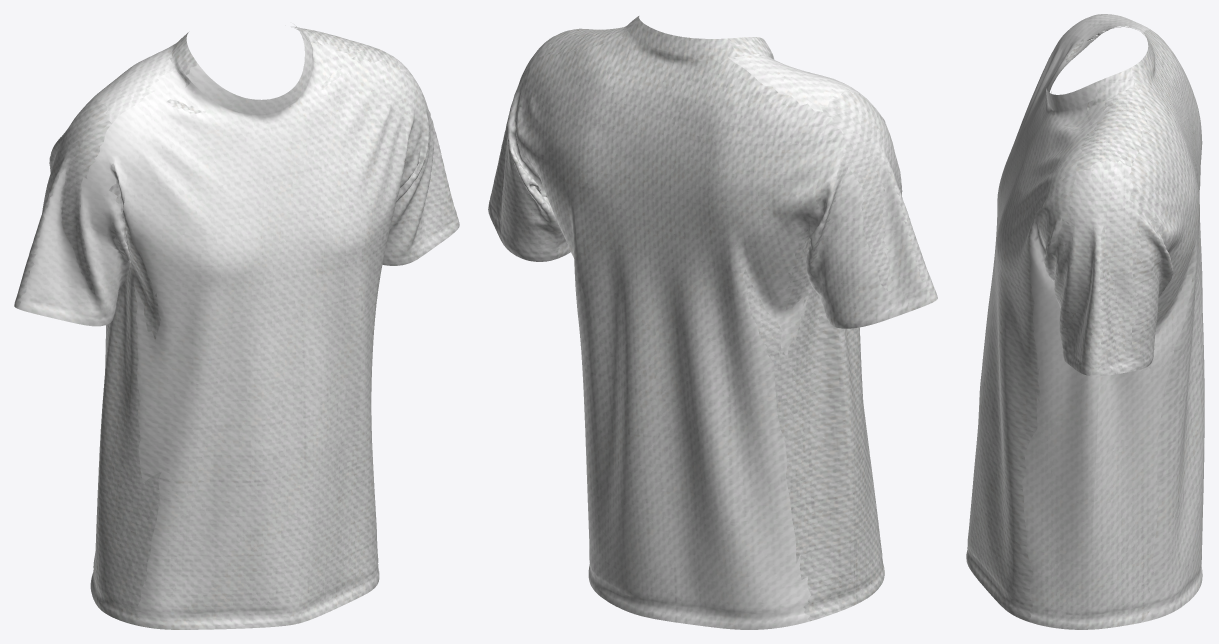
Rendered from t-shirt.glb.
3 views of the same model, side by side, from view 1: azimuth 30°, elevation 25°; view 2: azimuth 150°, elevation 25°; view 3: azimuth 270°, elevation 25° (orthographic). The views are drawn at different scales.
Parts seen in each view (by area): view 1: t-shirt; view 2: t-shirt; view 3: t-shirt.
Boxes of the visible parts, x1,y1,x2,y2 form: t-shirt: (14, 24, 459, 629); t-shirt: (488, 16, 937, 629); t-shirt: (966, 14, 1204, 629).
Bounding box in the file's own units: 23.63 × 28.22 × 11.35.
Materials: 1 (1 with a texture image).
